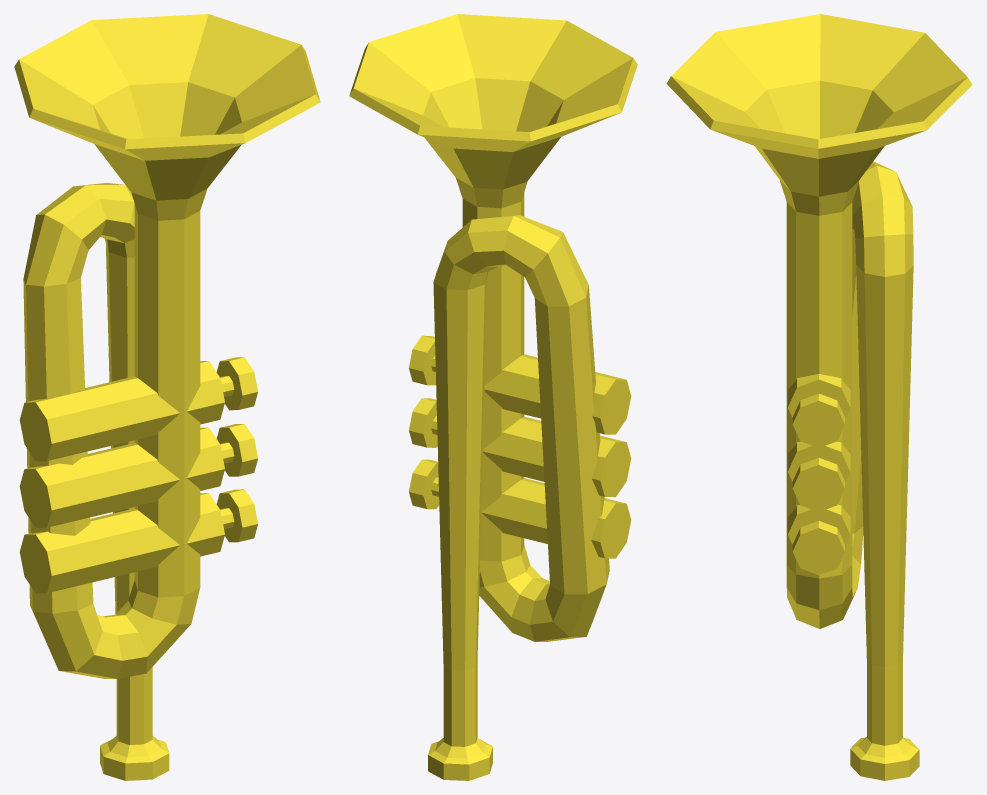
The model's file is Trumpet.glb.
3 views of the same model, side by side, from view 1: azimuth 30°, elevation 25°; view 2: azimuth 150°, elevation 25°; view 3: azimuth 270°, elevation 25° (orthographic). The views are drawn at different scales.
Visible parts, largest first — view 1: trumpet_Circle.006; view 2: trumpet_Circle.006; view 3: trumpet_Circle.006.
Part boxes in pixels (x1,y1,x2,y2): trumpet_Circle.006: (14,14,320,780); trumpet_Circle.006: (349,14,637,780); trumpet_Circle.006: (666,14,972,780).
Size of the model in its own units: 0.6723 by 1.67 by 0.6723.
